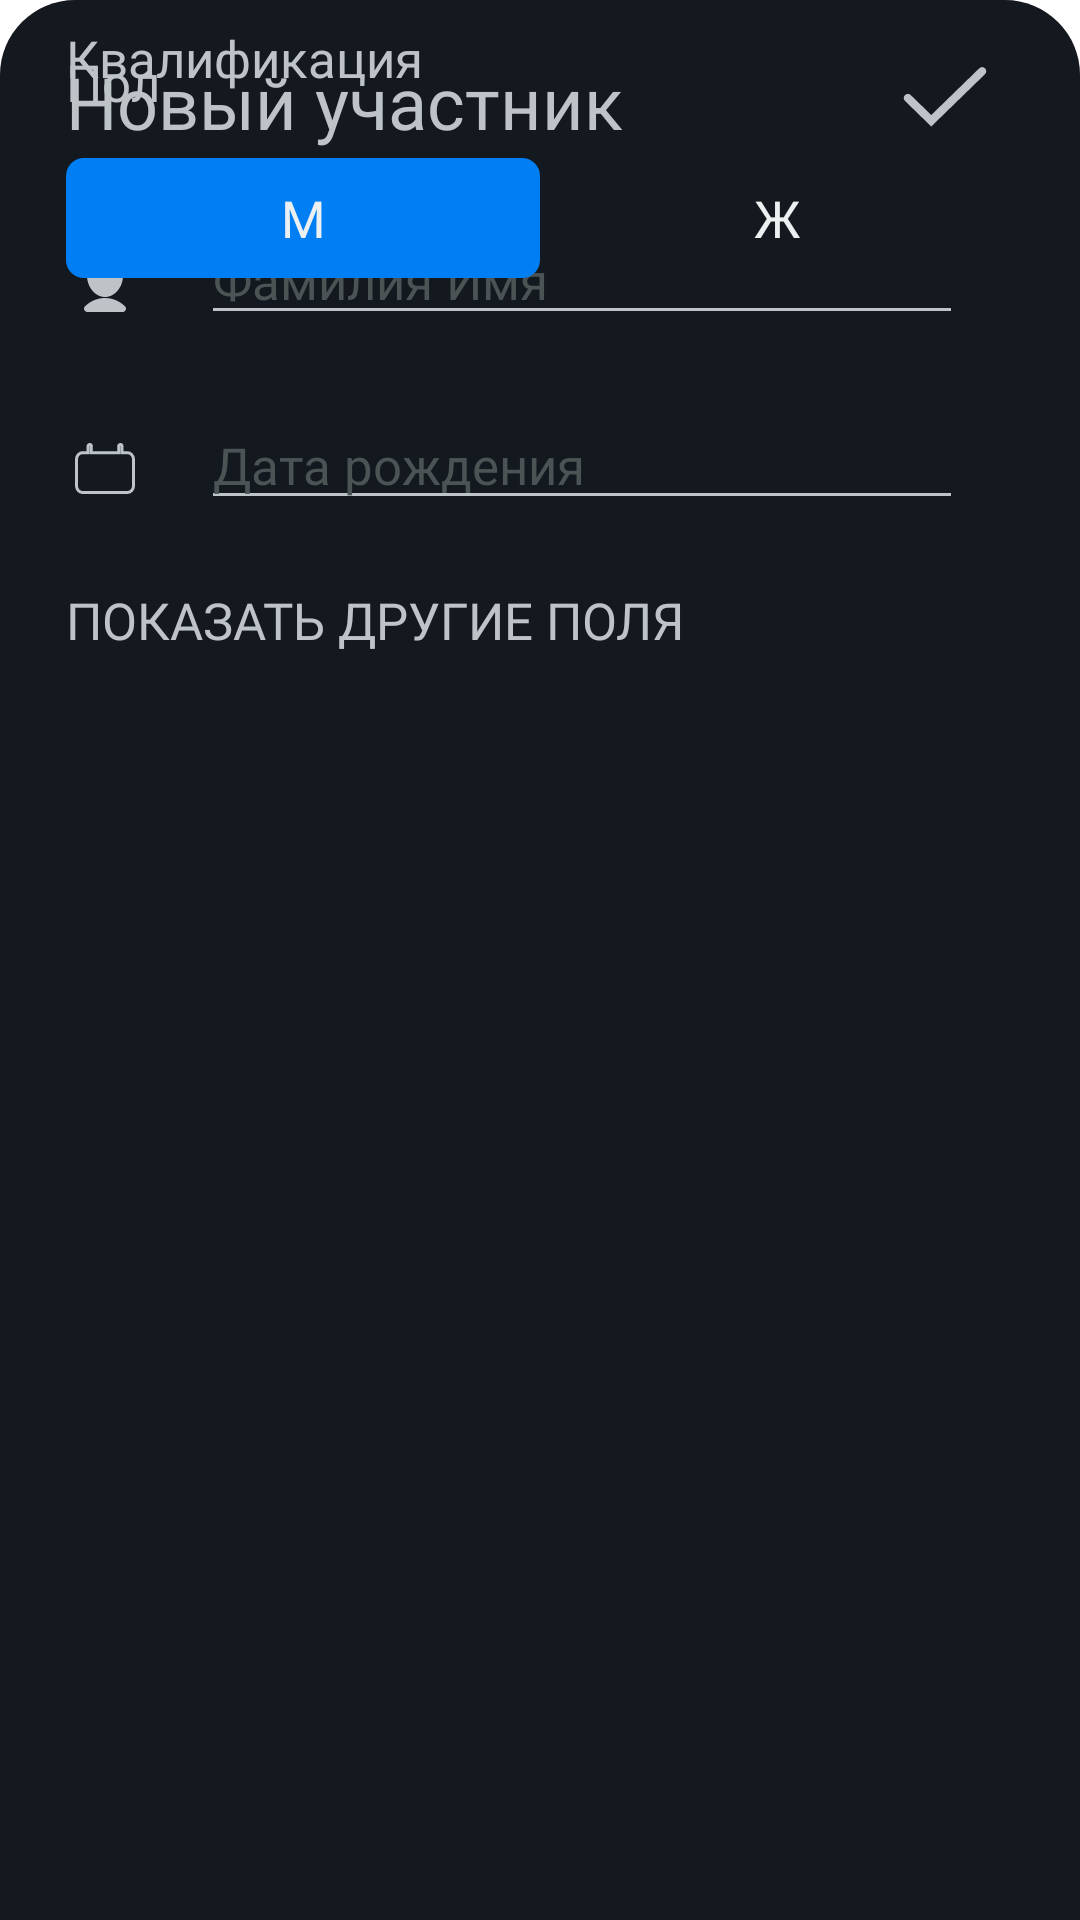

Screen size 1080×1920. Icon name, then its box in pixels as (x1, y1, x2, y2):
date: (75, 443, 135, 494)
